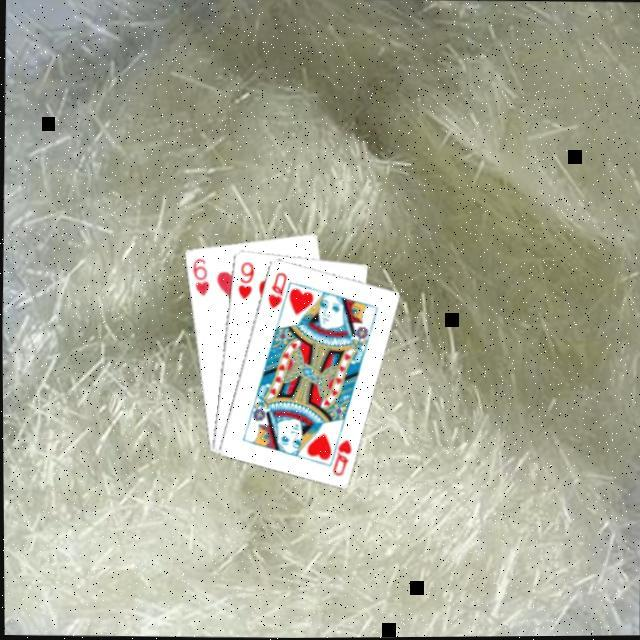6H: (189, 252, 212, 296)
9H: (234, 256, 257, 300)
QH: (325, 427, 355, 477), (264, 267, 291, 309)
